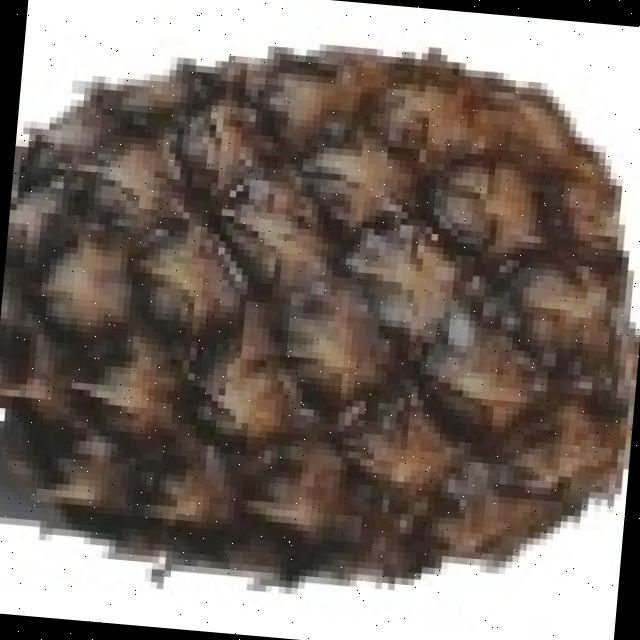pineapple: (0, 50, 640, 583)
